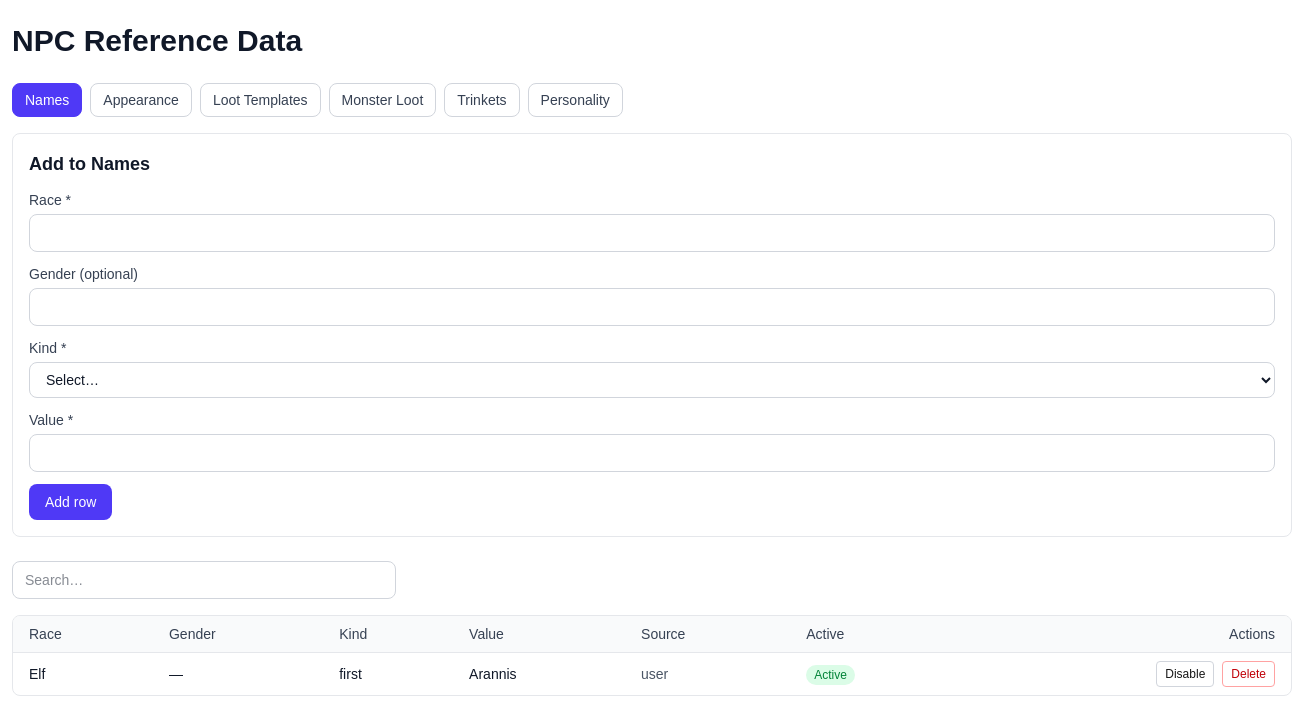
AdminNpcDataPage › a write that lands after a tab switch › a Disable patches the tab it was clicked on
This screenshot has width=1292, height=720.
(page scrolled)
expect the text "Arannis" is shown: met, box [453,652,625,695]
Click the button "Disable". click: (1185, 674)
box: [1156,661,1214,687]
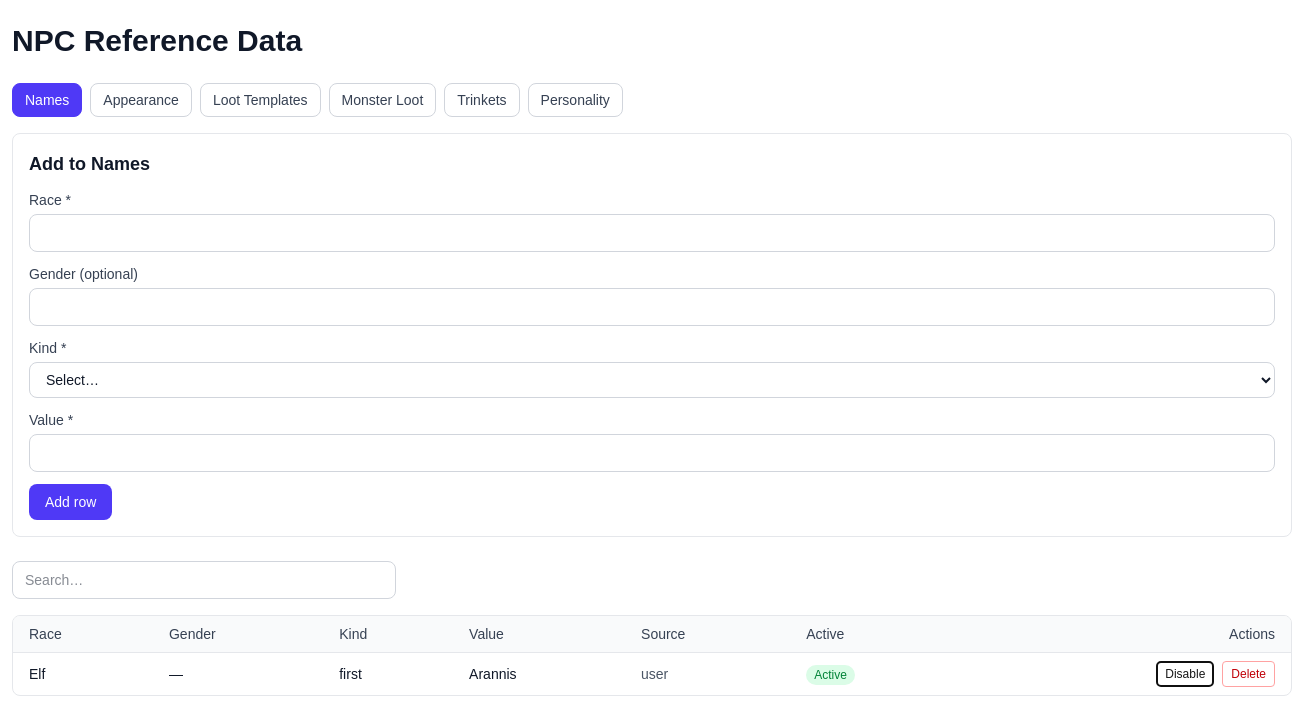
Click the tab "Personality". click: (575, 100)
box: [528,83,623,117]
(page scrolled)
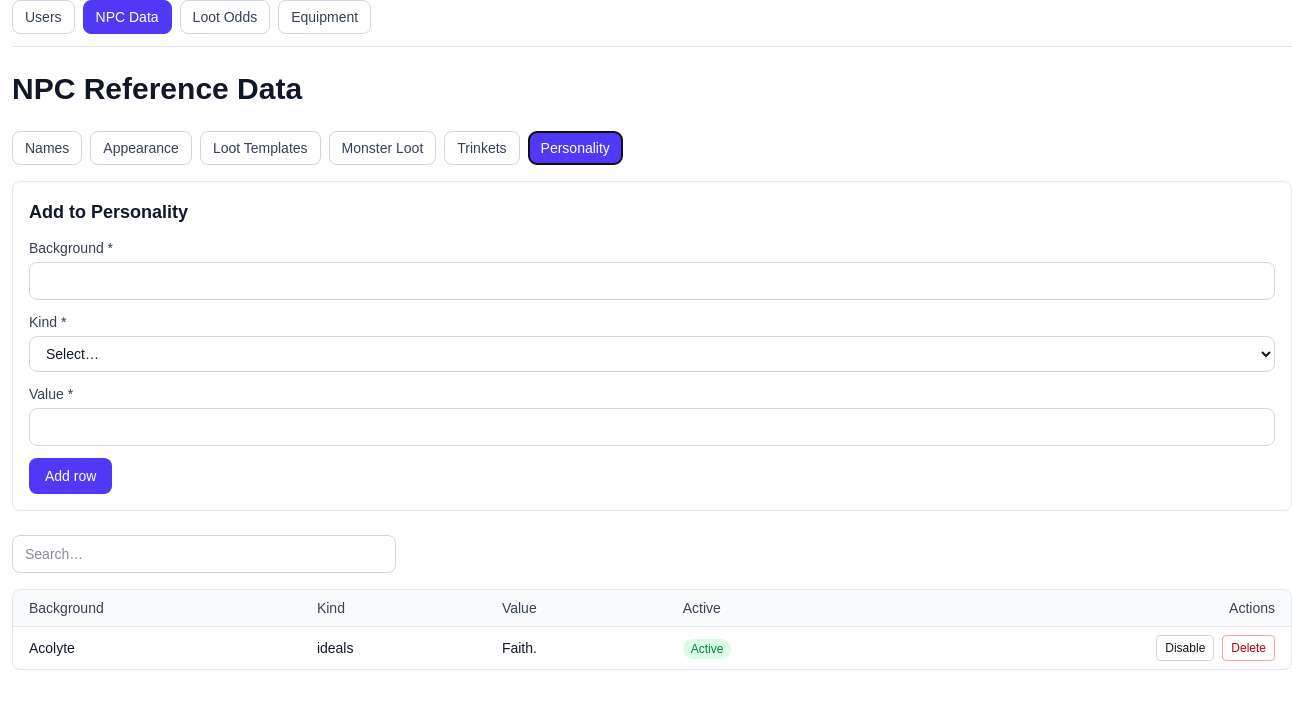
expect the text "Active" is shown: met, box [683,638,731,658]
expect the text "Faith." is shown: met, box [486,626,667,669]
Click the tab "Names". click: (47, 148)
box: [12,131,82,165]
(page scrolled)
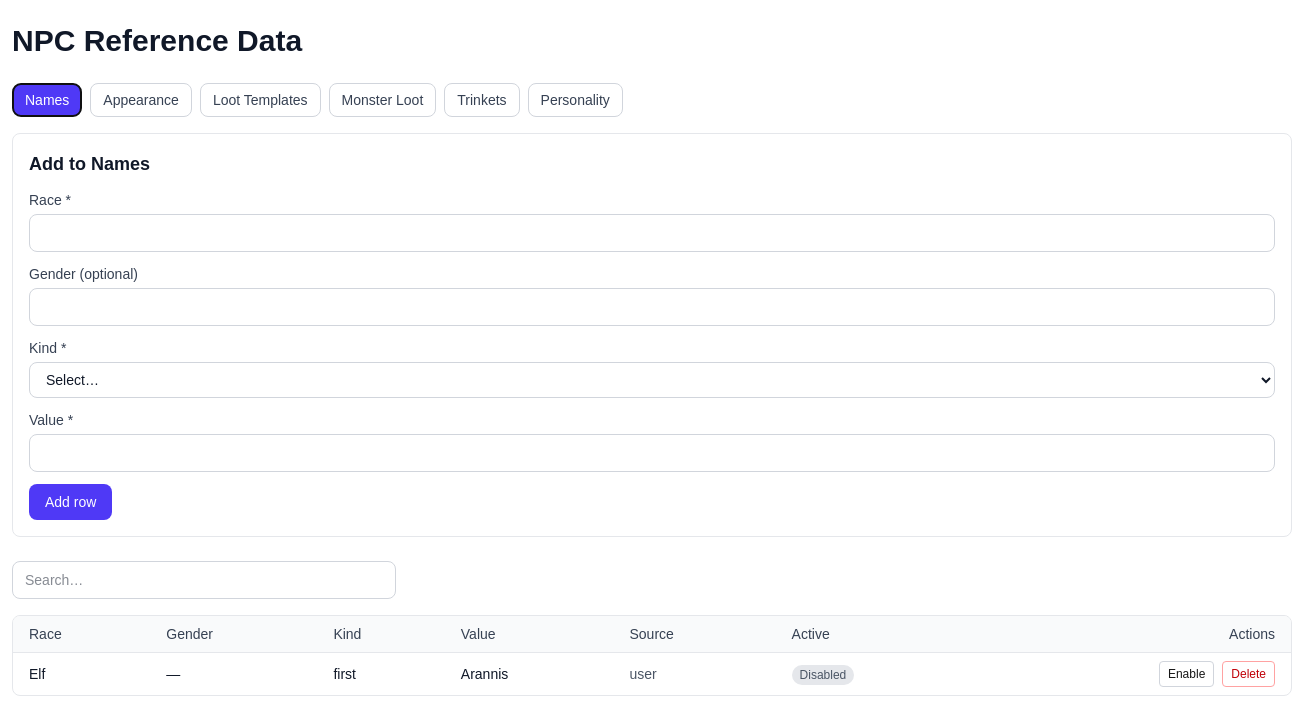
expect the text "Disabled" is shown: met, box [792,664,854,684]
